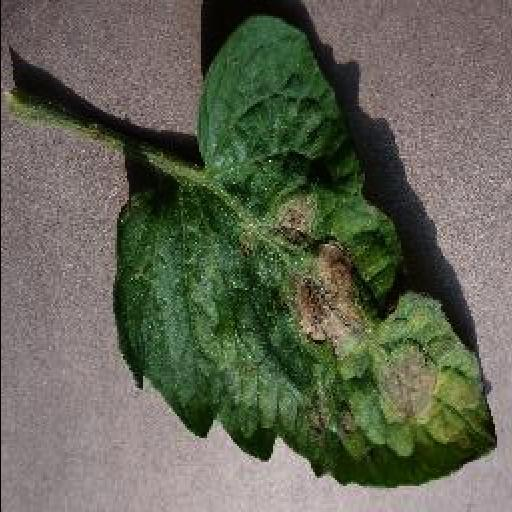disease_tomato: (112, 13, 502, 491)
